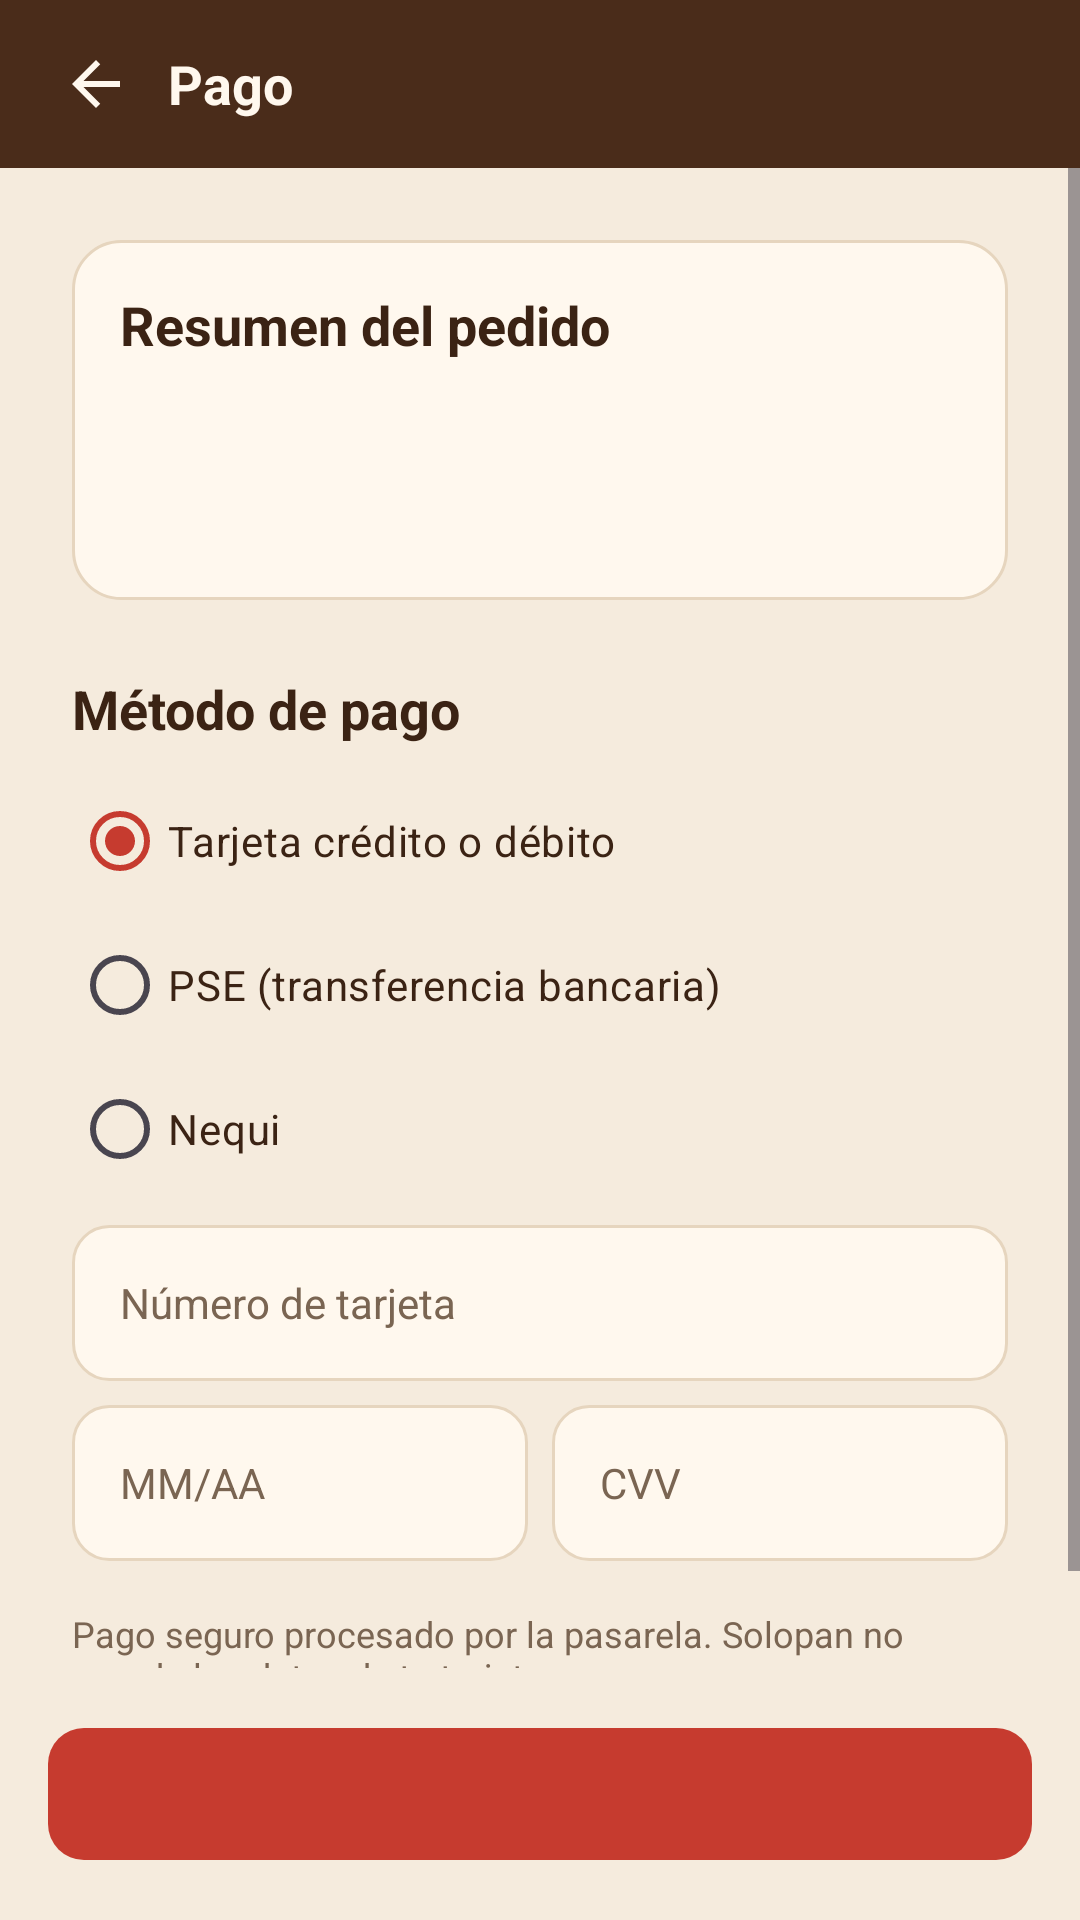

Named icons in this screenshot (1080px x 1920px) and their bounding boxes, [x1,y1,x2,y2]:
Volver: [72,60,120,108]
